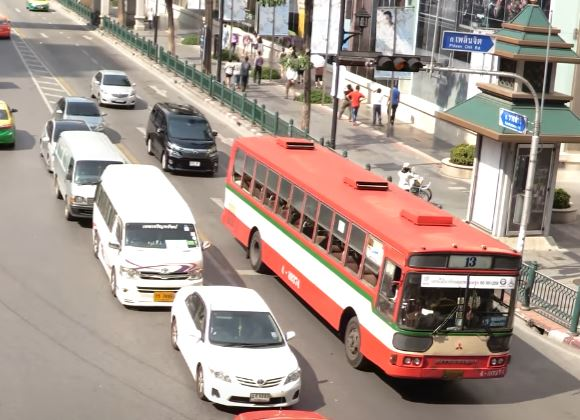Bus: (222, 134, 526, 384), (89, 163, 205, 310), (51, 130, 129, 221)
Car: (169, 283, 304, 411), (143, 102, 220, 175), (52, 95, 107, 134), (92, 69, 139, 109)
